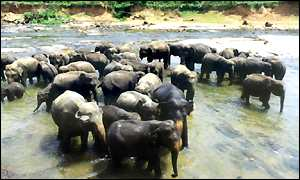elephant: (107, 118, 183, 180), (48, 89, 110, 157), (153, 80, 196, 150), (48, 70, 106, 109), (241, 71, 292, 115), (98, 65, 152, 101), (115, 87, 164, 125), (198, 50, 237, 88), (167, 63, 201, 103), (3, 55, 42, 87), (136, 40, 176, 66), (1, 79, 29, 105)
